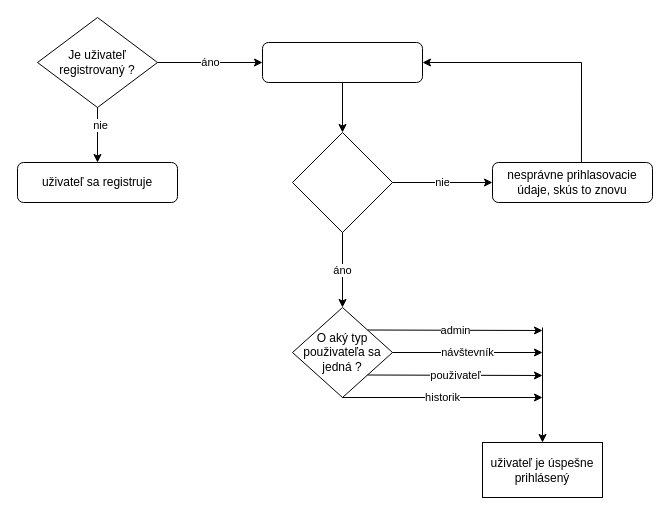
This 670x515 diagram has some shape labels left out. The box of each missing label's shape, as (x1, y1, x2, y2) in pixels:
boli správne ?: (292, 132, 392, 232)
použivateľ zadá prihlasovacie údaje: (262, 42, 422, 82)
